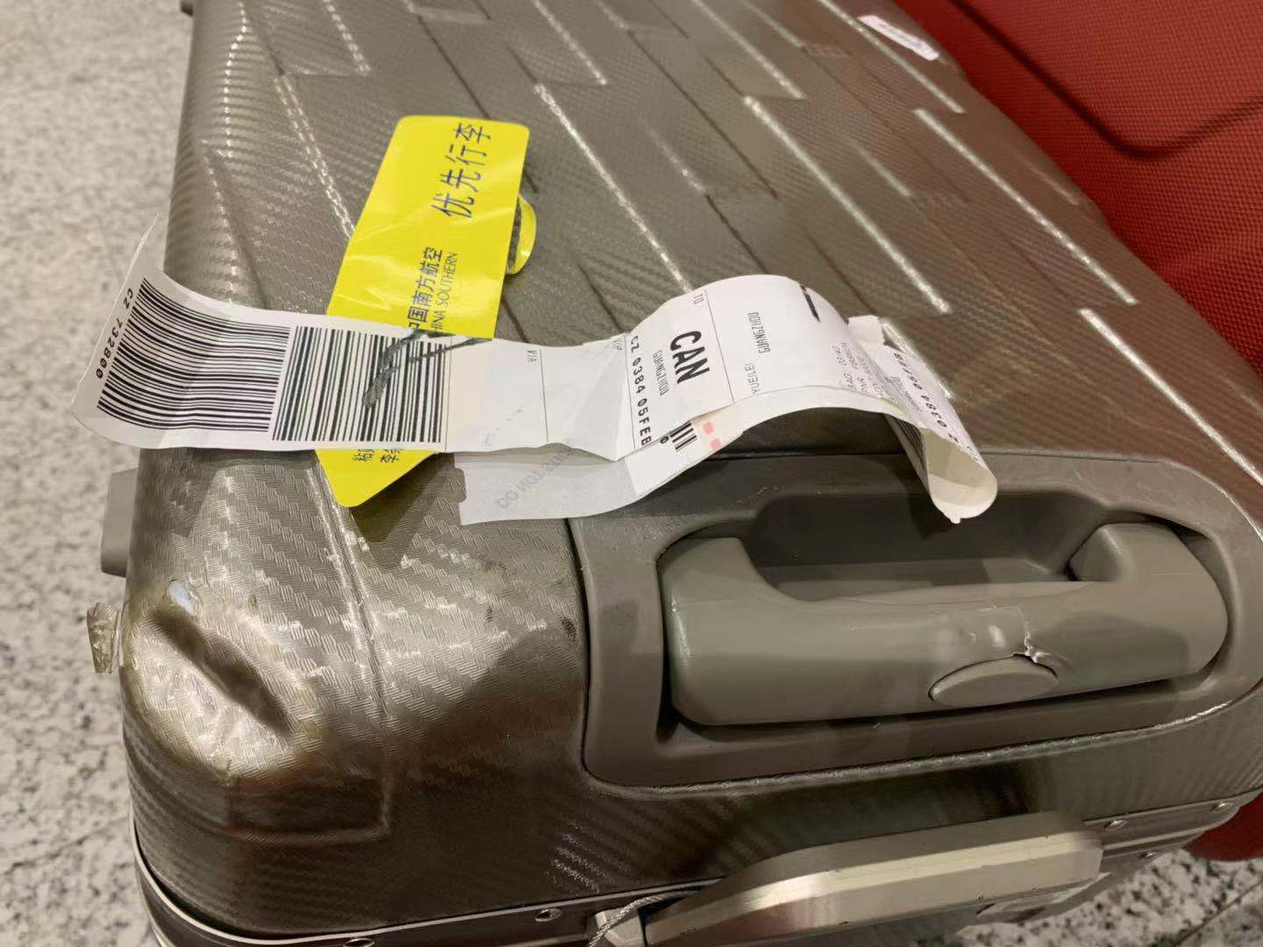hollow: (132, 603, 301, 776)
